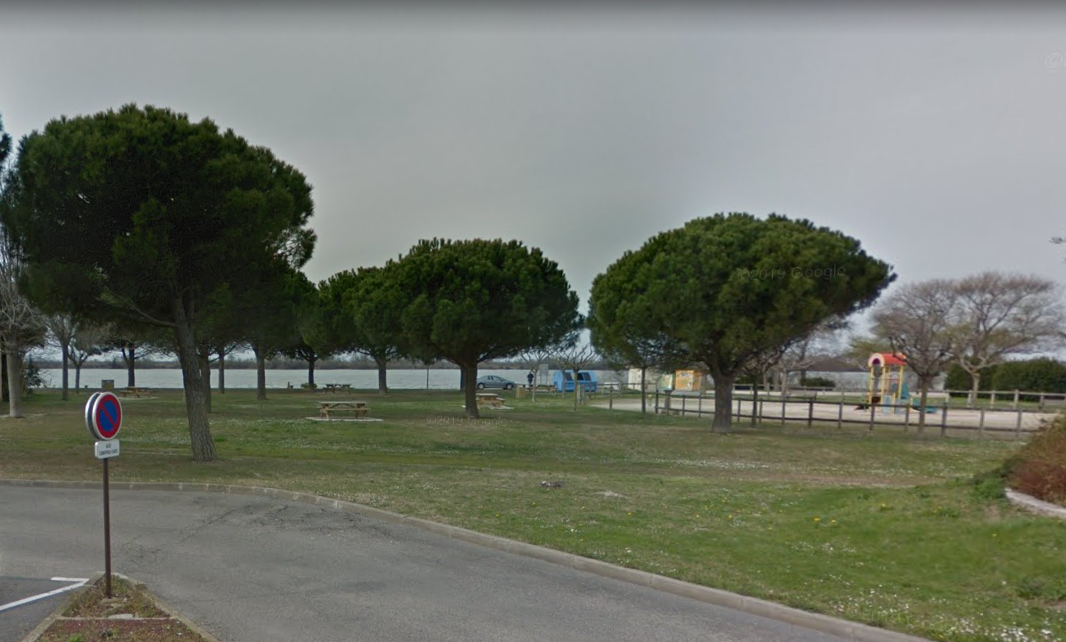Tree: (7, 103, 327, 459), (598, 210, 899, 433), (333, 234, 586, 427)
